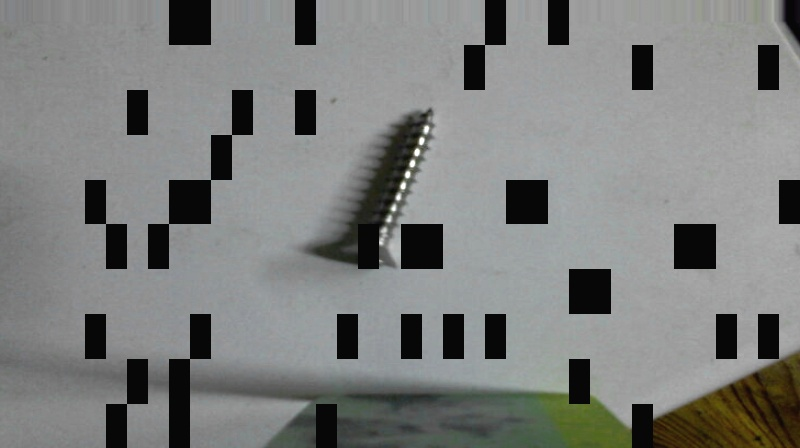S001: (342, 105, 438, 270)
